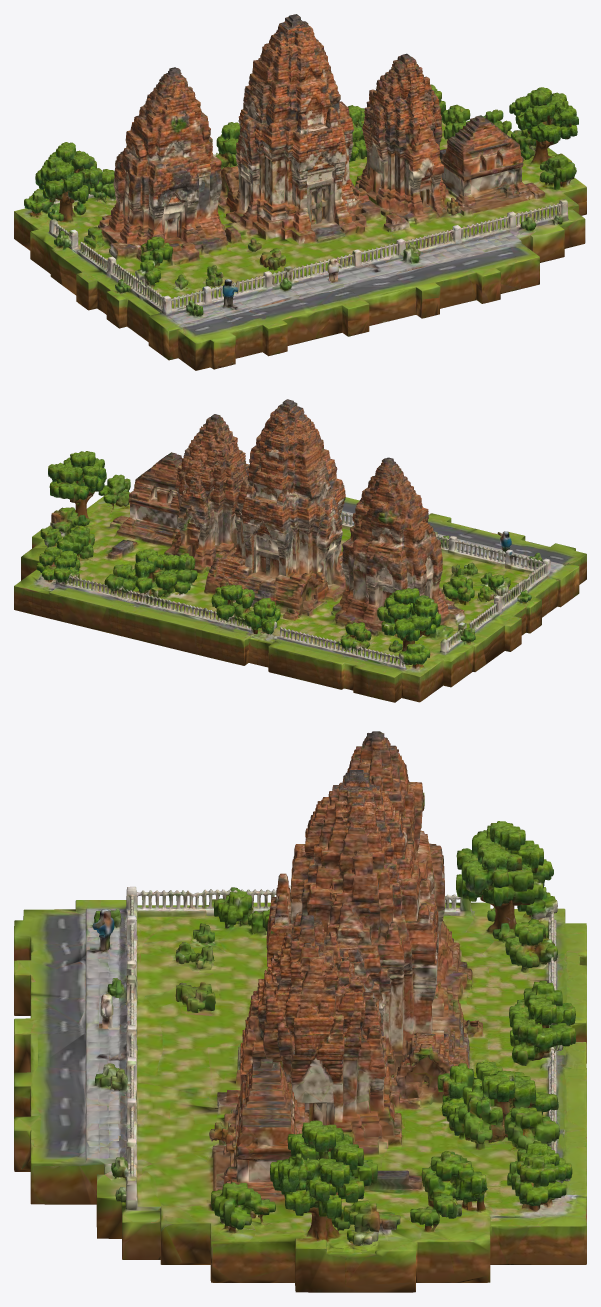
File: prang-khaek.glb
The picture shows the model from 3 angles, top to bottom: view 1: azimuth 30°, elevation 25°; view 2: azimuth 150°, elevation 25°; view 3: azimuth 270°, elevation 25°; orthographic projection. The views are drawn at different scales.
Size of the model in its own units: 1.92 by 0.8255 by 1.29.
1 material, 1 textured.
